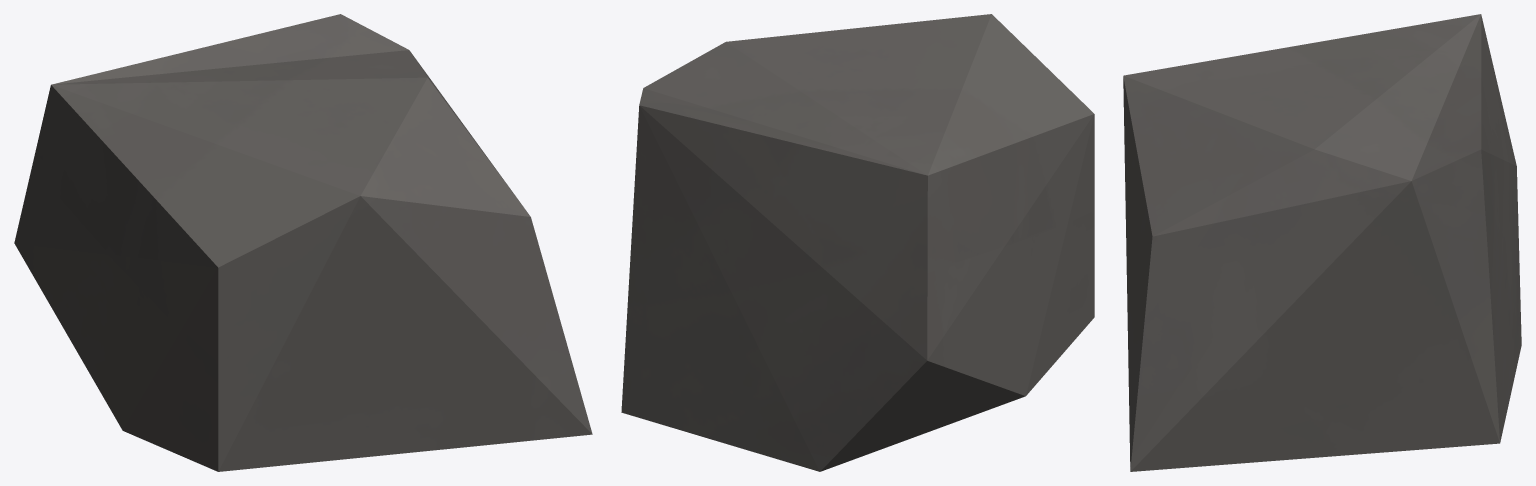
The model's file is Rock_8.fbx.
3 views of the same model, side by side, from view 1: azimuth 30°, elevation 25°; view 2: azimuth 150°, elevation 25°; view 3: azimuth 270°, elevation 25° (orthographic). The views are drawn at different scales.
Parts seen in each view (by area): view 1: Rock_8; view 2: Rock_8; view 3: Rock_8.
Part boxes in pixels (x1,y1,x2,y2): Rock_8: (14,14,592,471); Rock_8: (621,14,1094,471); Rock_8: (1123,14,1521,471).
Bounding box in the file's own units: 38.98 × 30 × 37.3.
